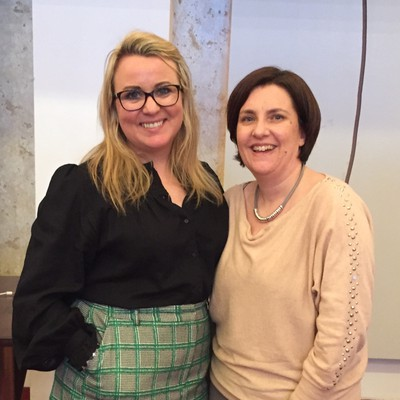eywear: (102, 85, 198, 112)
